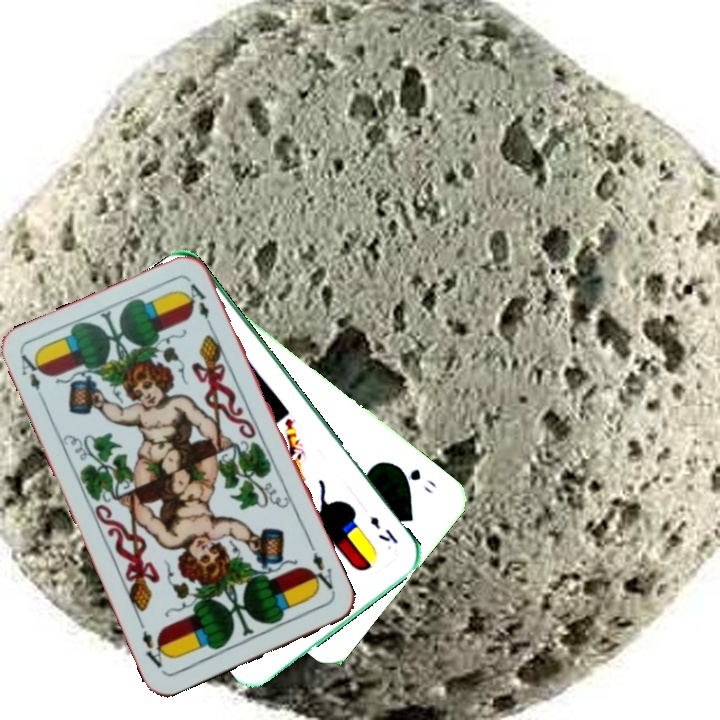EA: (17, 350, 49, 407), (305, 548, 338, 597)
EK: (366, 512, 401, 547)
GO: (392, 461, 439, 497)
